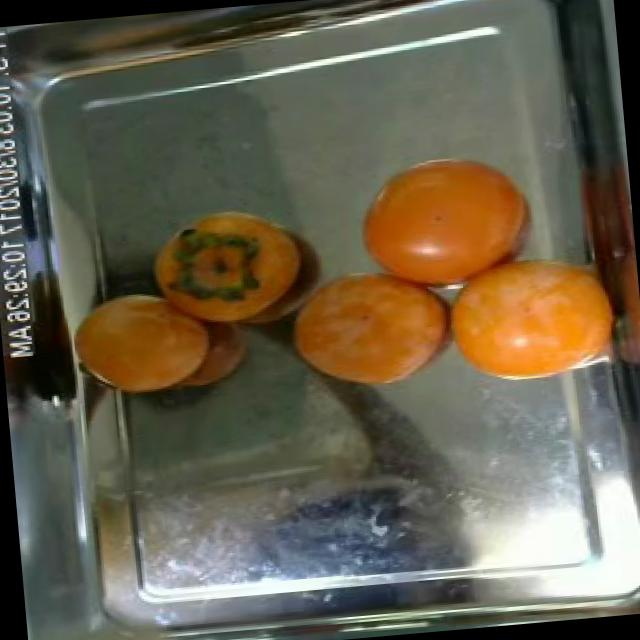Fruit: (426, 229, 637, 400), (338, 137, 546, 309), (268, 250, 471, 404), (62, 272, 258, 402), (129, 195, 316, 324)
